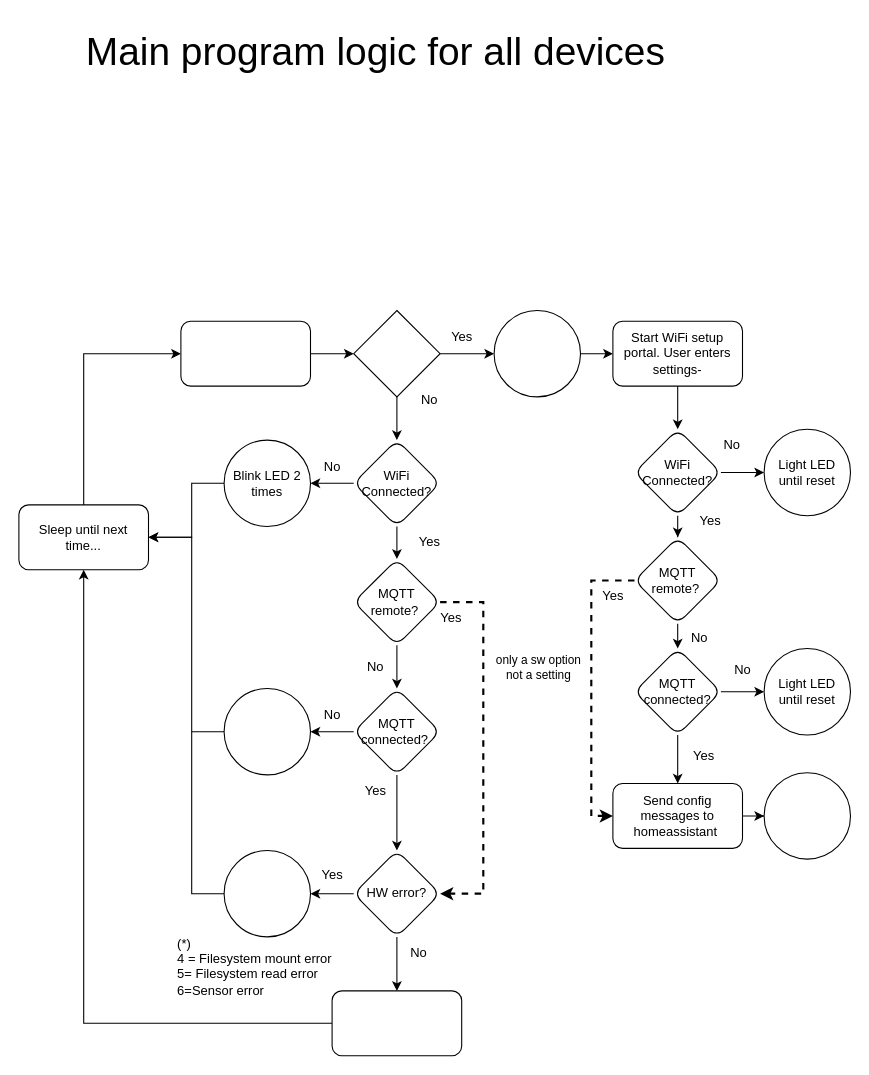
The diagram is 869 pixels wide and 1075 high, and some of its shapes have lost their labels. Each missing label, with the box of its shape:
Blink LED 3 times: (223, 687, 310, 775)
Blink LED 4+ times (*): (223, 849, 310, 937)
Blink LED every second until reset: (763, 772, 850, 859)
Light LED: (493, 309, 580, 397)
PowerOn or Reset: (180, 320, 310, 386)
Start measuring cycle and send values: (331, 990, 462, 1056)
Switch in setup?: (353, 309, 440, 397)
